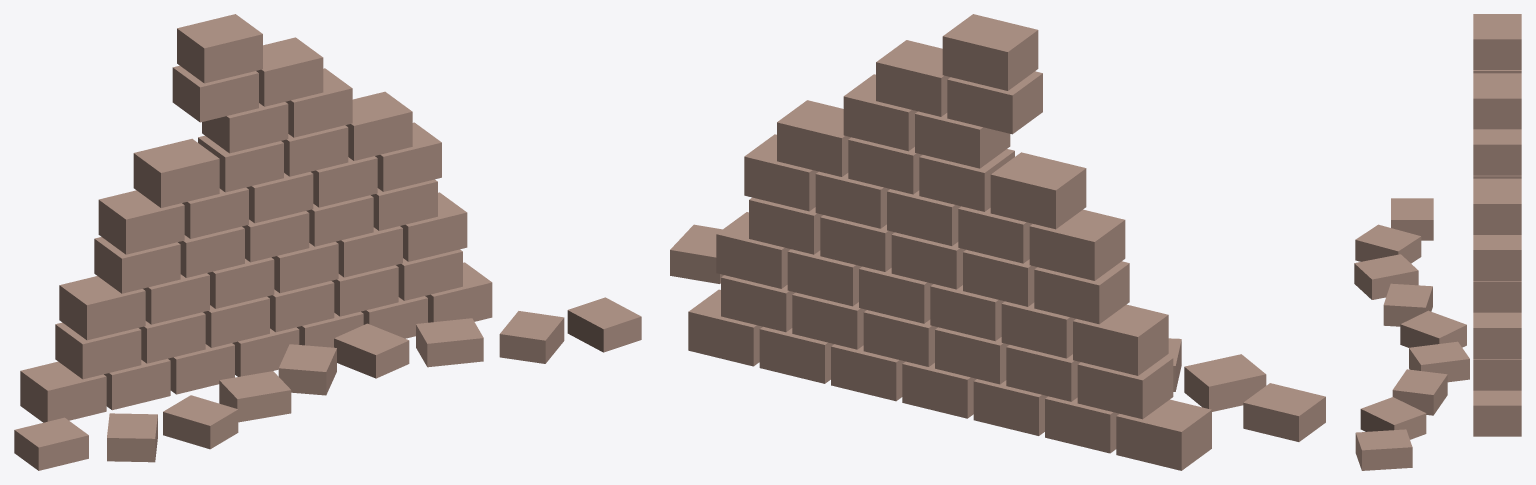
Rendered from trench-line-1917-ruined-wall-5787ff9d__24087.glb.
3 renders of one model, left to right at view 1: azimuth 30°, elevation 25°; view 2: azimuth 150°, elevation 25°; view 3: azimuth 270°, elevation 25°, orthographic. The views are drawn at different scales.
Visible parts, largest first — view 1: ruined-wall; view 2: ruined-wall; view 3: ruined-wall.
Boxes of the visible parts, bbox=[...] form: ruined-wall: bbox=[14, 14, 641, 470]; ruined-wall: bbox=[670, 14, 1325, 470]; ruined-wall: bbox=[1354, 14, 1521, 470].
Bounding box in the file's own units: 4.19 × 2.32 × 1.18.
